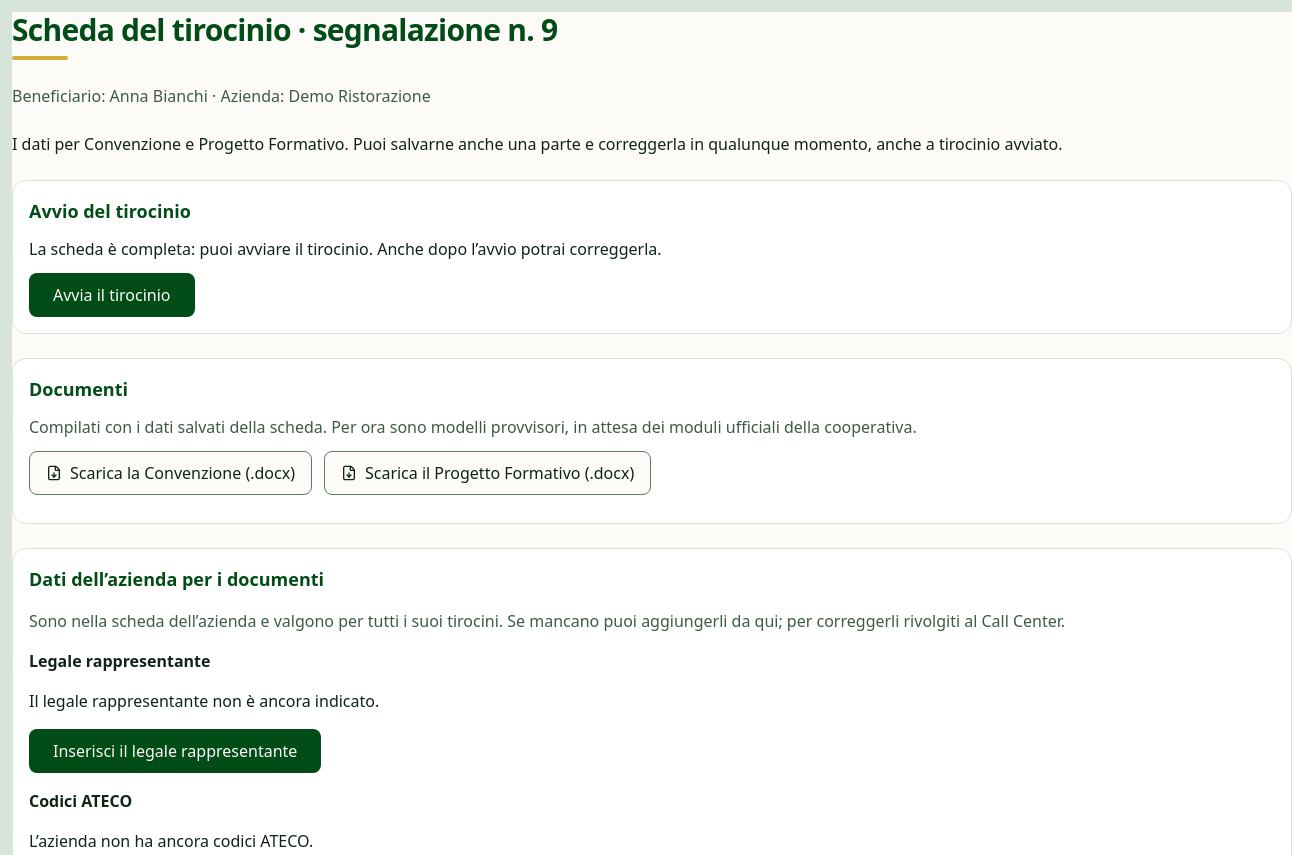
Test case: <InternshipPage> › documenti: download non riuscito
Click the button "Scarica la Convenzione (.docx)": (170, 473) [29,451,312,495]
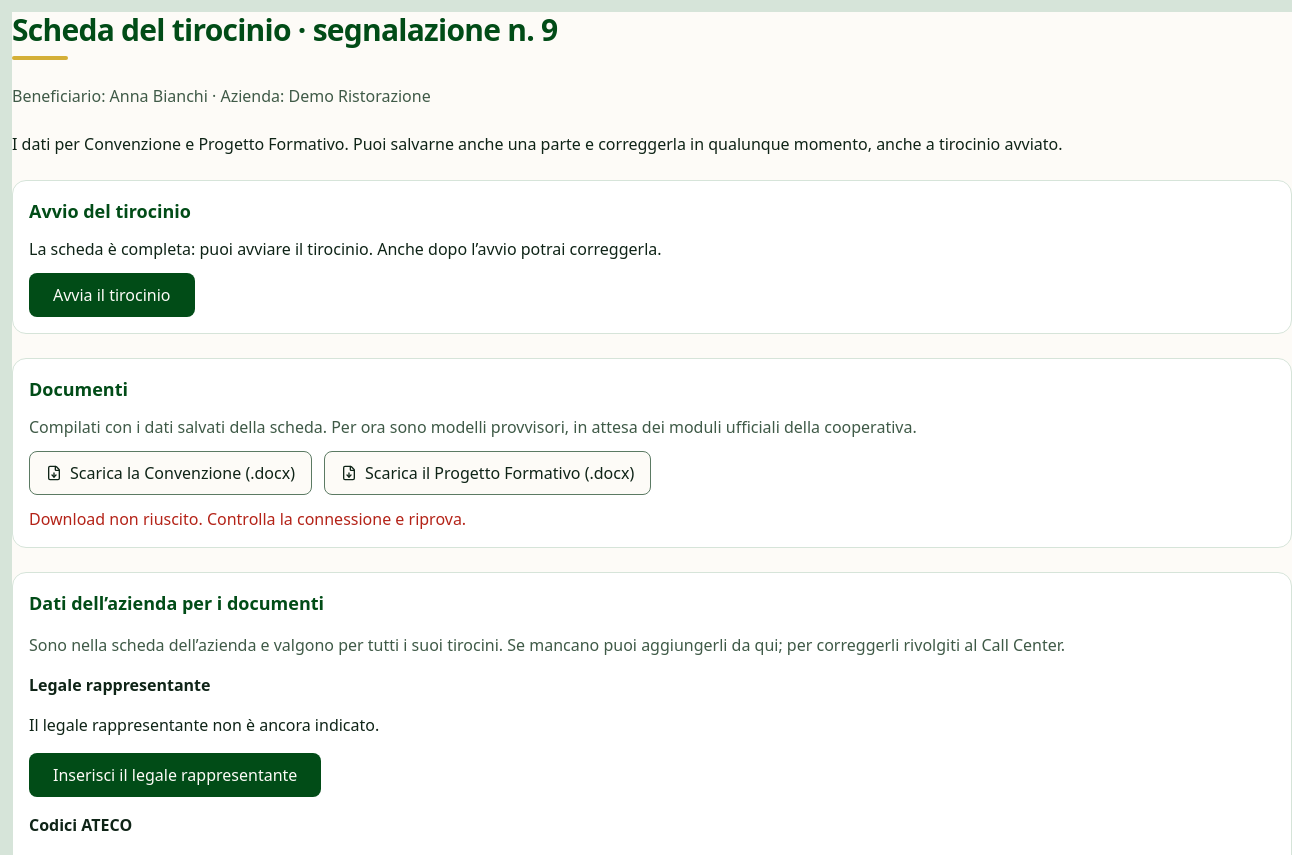
Expected: the text "Download non riuscito. Controlla la connessione e riprova." is shown, [29,508,466,530]
